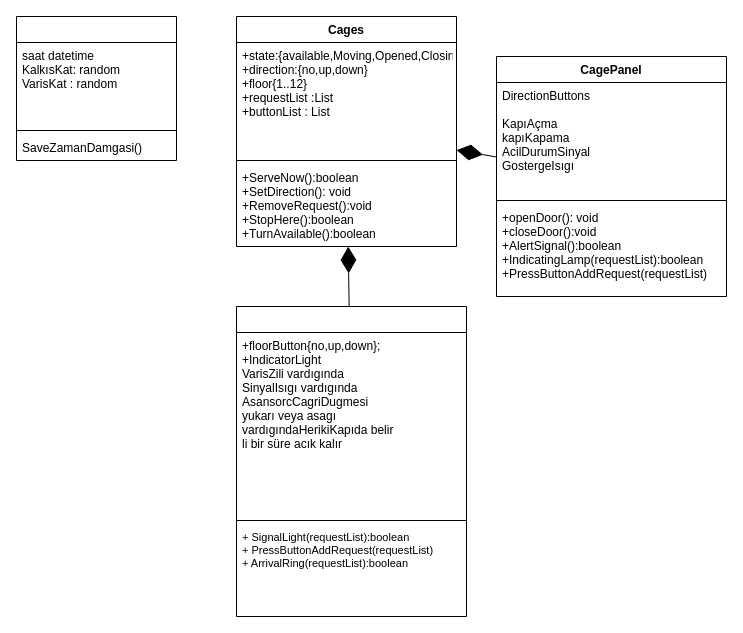
Some shapes in this 743 by 633 pixel diagram are drawn without their labels. The box of each missing label's shape, as (x1, y1, x2, y2) in pixels:
FloorDoor: (236, 306, 466, 616)
Similator: (16, 16, 176, 160)
